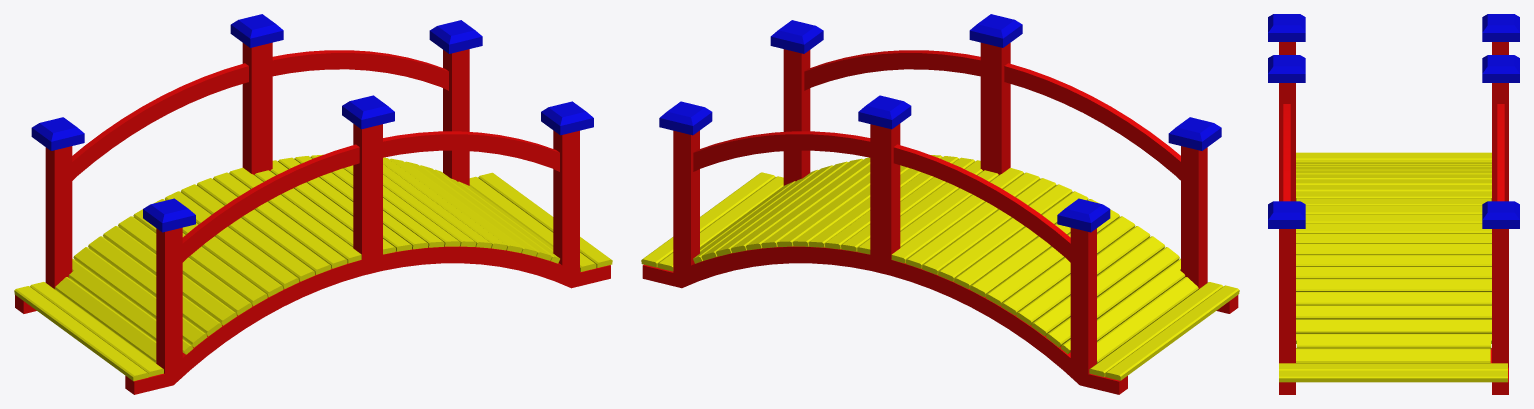
Rendered from Bridge.fbx.
3 views of the same model, side by side, from view 1: azimuth 30°, elevation 25°; view 2: azimuth 150°, elevation 25°; view 3: azimuth 270°, elevation 25° (orthographic). The views are drawn at different scales.
Visible parts, largest first — view 1: polySurface137; view 2: polySurface137; view 3: polySurface137.
Part boxes in pixels (x1=…): polySurface137: x1=14, y1=14, x2=612, y2=394; polySurface137: x1=641, y1=14, x2=1239, y2=394; polySurface137: x1=1268, y1=14, x2=1519, y2=394.
Size of the model in its own units: 31.31 by 14.39 by 14.77.
